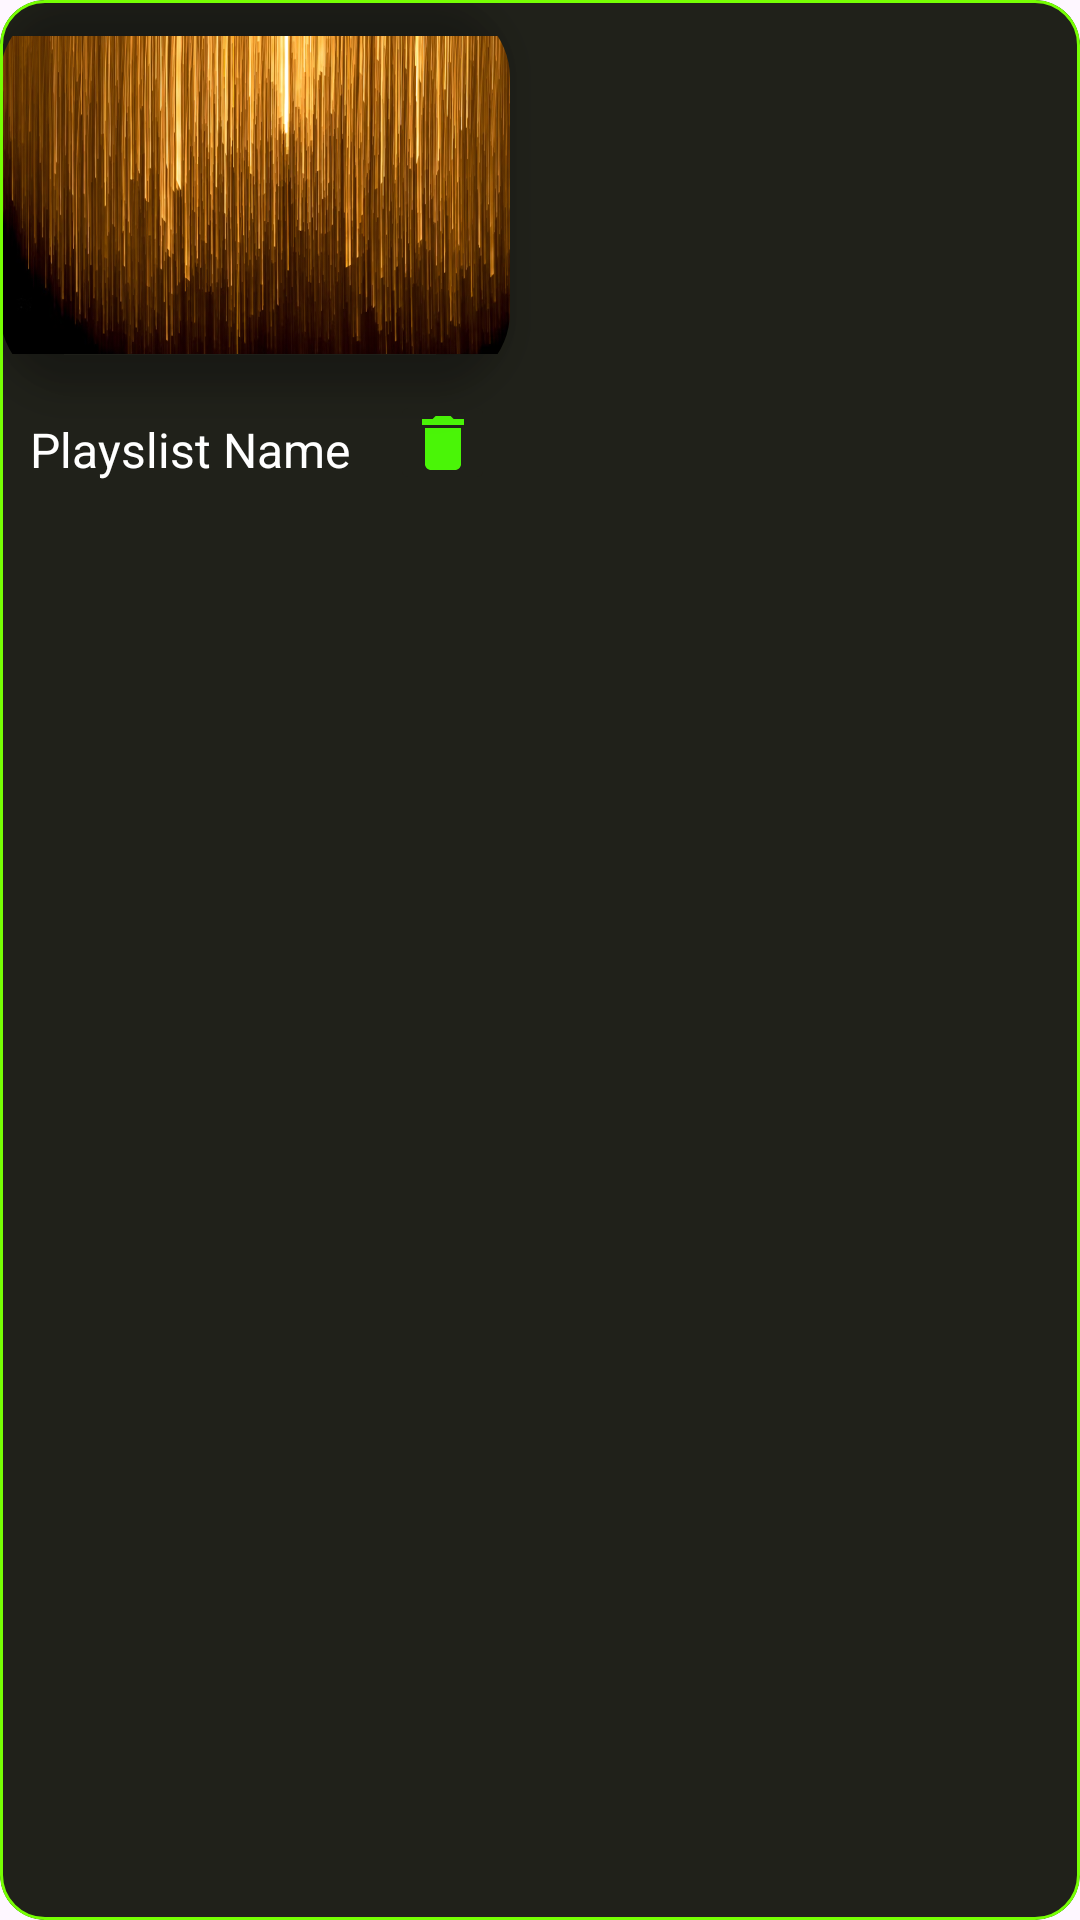

Icon click points for this 1080 x 1920 phone screenshot, format (x=x, y=y):
delete: (x=443, y=443)
